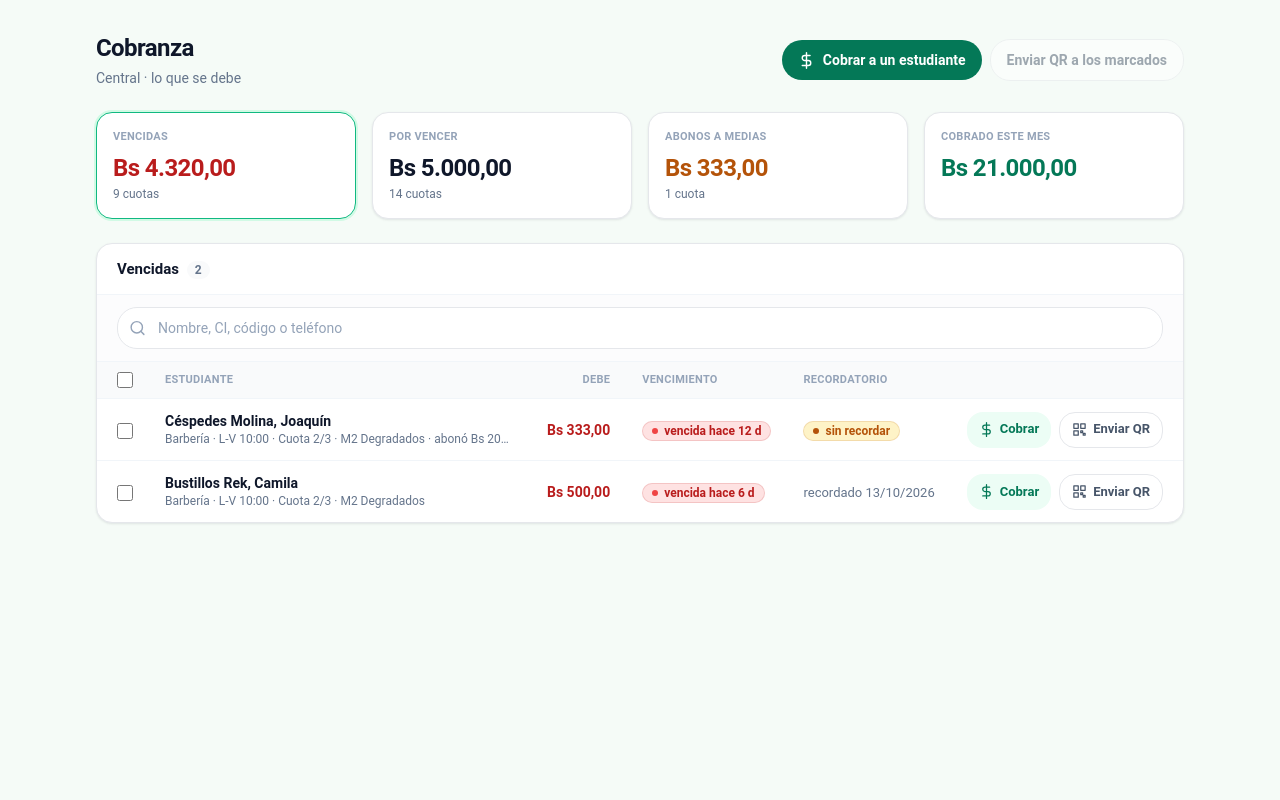
Test case: N7 · cobranza › Enviar QR abre el panel; Abrir WhatsApp pide el mensaje con el enlace, abre wa.me y lo anota
What coordinates should you click on to do the following:
click the button "Enviar QR" in the row of "vencida hace 12 d"
I would click on:
 (1111, 430)
Its box is 1059,412 -> 1163,448.
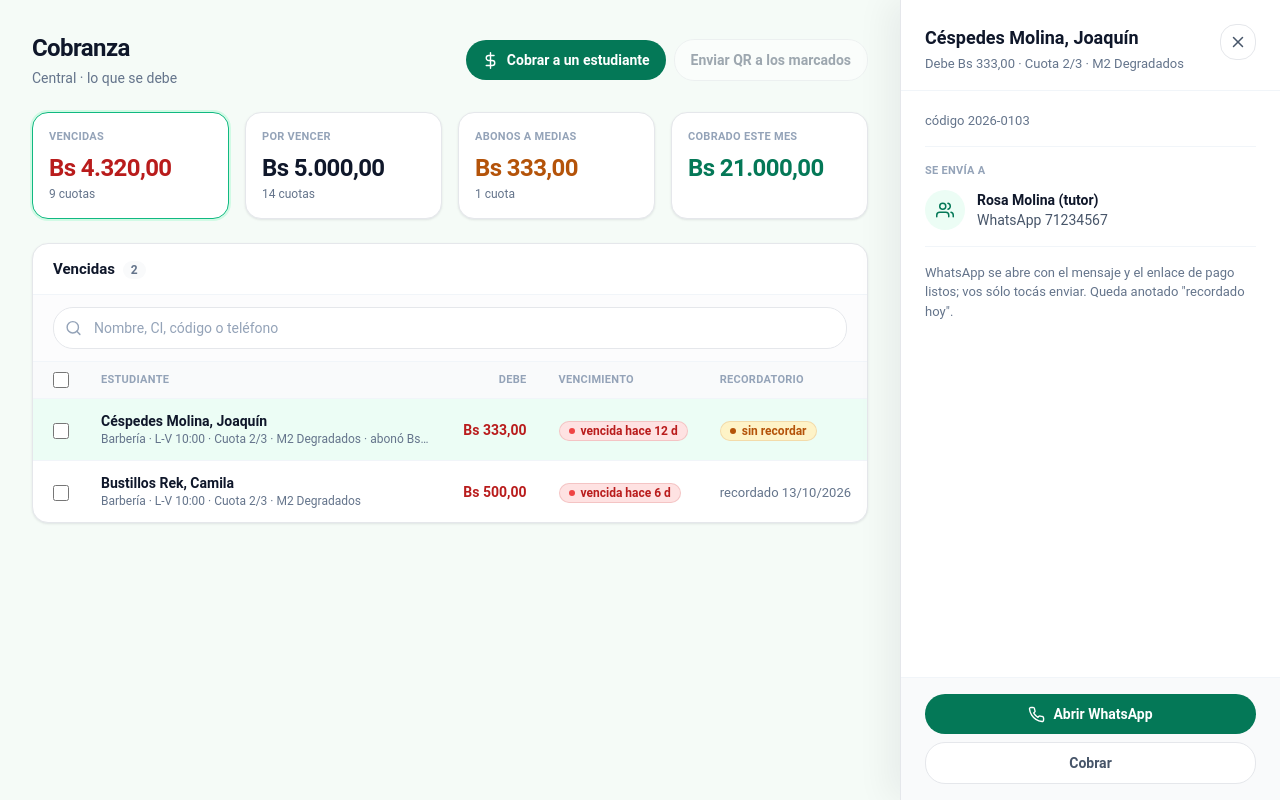
Result: the text "Rosa Molina (tutor)" is shown at 977,190 -> 1108,210
What coordinates should you click on to do the following:
click the button "Abrir WhatsApp"
I would click on:
 (1090, 714)
Its box is 925,694 -> 1256,734.
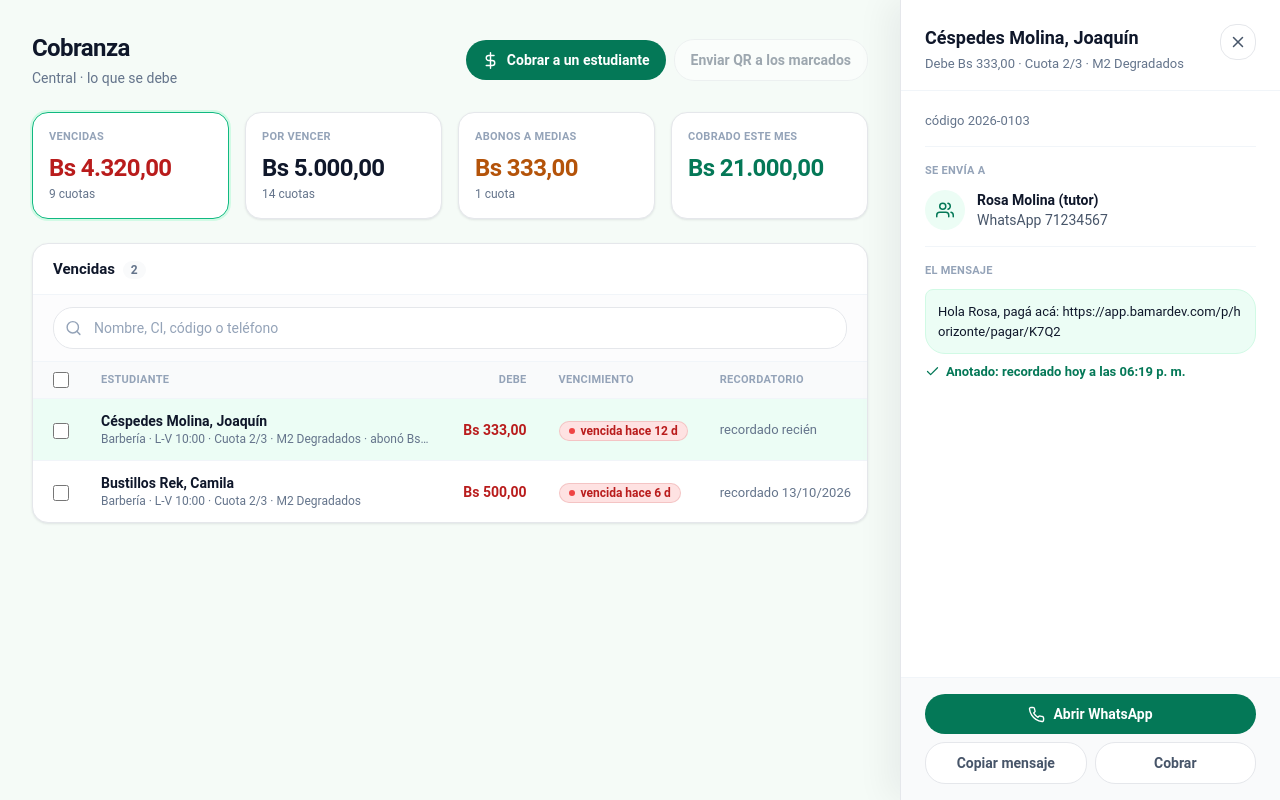
Result: the text "pagar/K7Q2" is shown at 938,304 -> 1241,338
Result: the message shows "Anotado: recordado hoy" at 946,364 -> 1120,379
